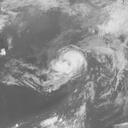cyclone: (51, 43, 87, 79)
